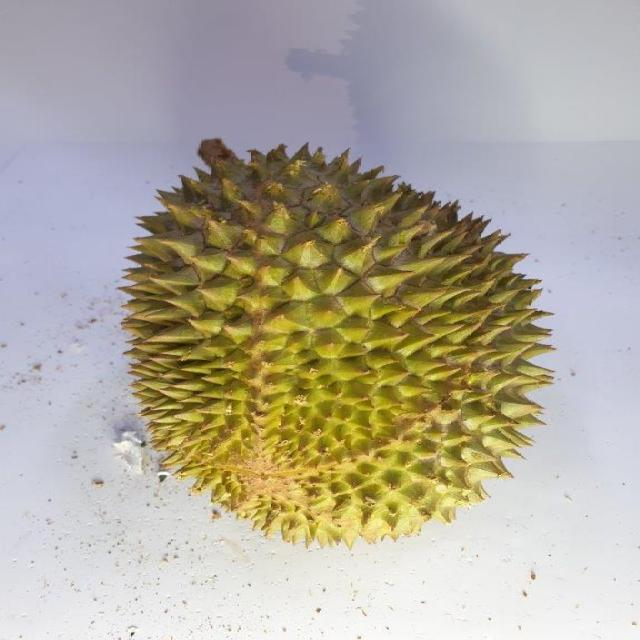immature: (125, 142, 559, 552)
